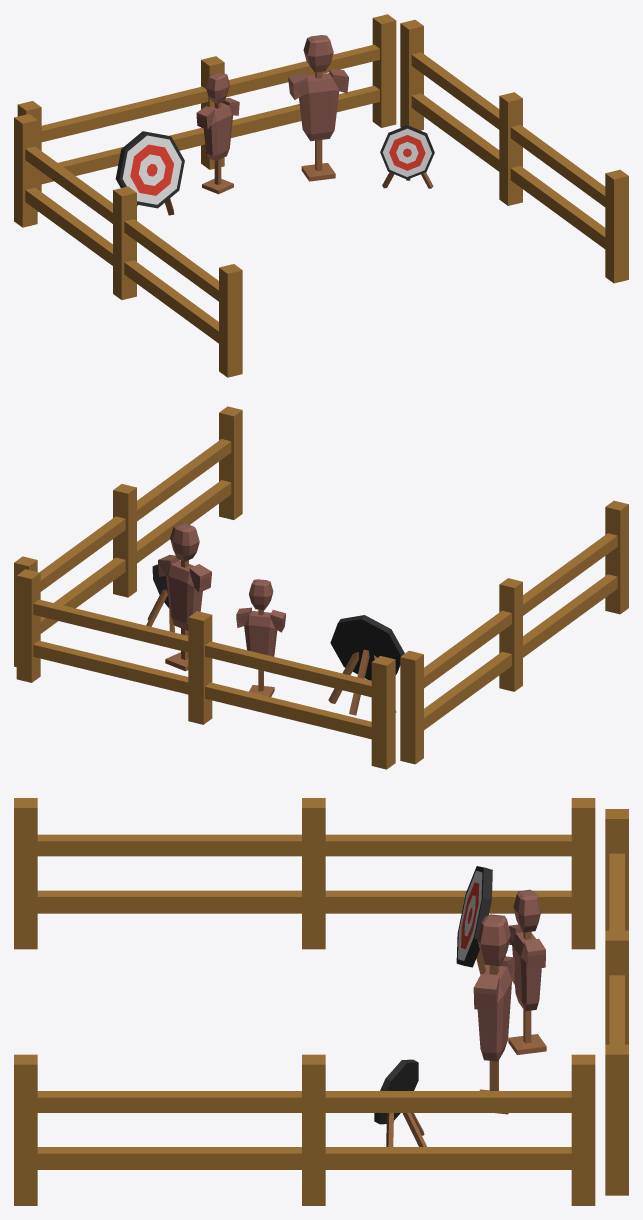
File: shooting_range.dae
The picture shows the model from 3 angles, top to bottom: view 1: azimuth 30°, elevation 25°; view 2: azimuth 150°, elevation 25°; view 3: azimuth 270°, elevation 25°; orthographic projection. The views are drawn at different scales.
Visible parts, largest first — view 1: fence, dummy, target, dummy.001, target.001; view 2: fence, dummy, target, dummy.001, target.001; view 3: fence, dummy, dummy.001, target, target.001.
Boxes of the visible parts, <box> form: fence: <box>14,14,628,377</box>; dummy: <box>288,35,348,181</box>; target: <box>115,131,184,215</box>; dummy.001: <box>196,72,239,194</box>; target.001: <box>380,125,434,188</box>; fence: <box>14,406,628,769</box>; dummy: <box>158,523,211,671</box>; target: <box>328,615,404,715</box>; dummy.001: <box>236,579,285,696</box>; target.001: <box>146,564,174,632</box>; fence: <box>14,798,628,1205</box>; dummy: <box>473,914,514,1114</box>; dummy.001: <box>508,889,546,1054</box>; target: <box>456,866,514,984</box>; target.001: <box>374,1059,426,1146</box>.
Bounding box in the file's own units: 26.2 × 25.56 × 9.07.
